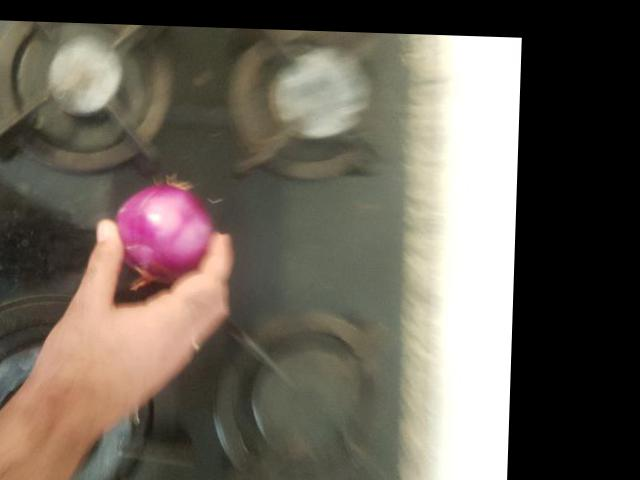onion: (268, 122, 357, 211)
